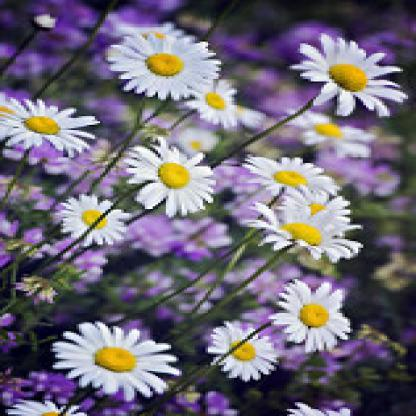ASTER: (9, 3, 409, 410)
